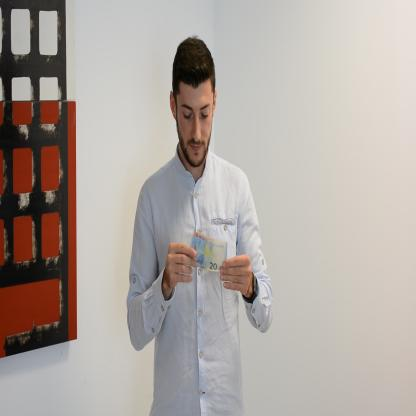billete: (189, 230, 228, 272)
